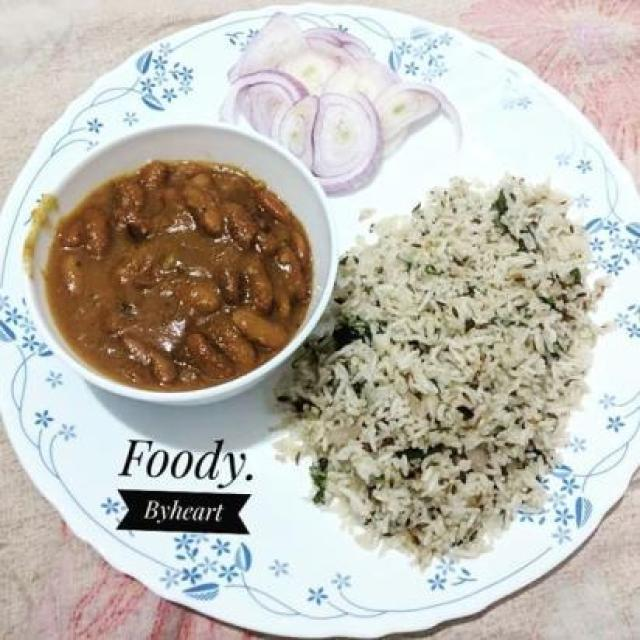rajma: (59, 156, 295, 383)
